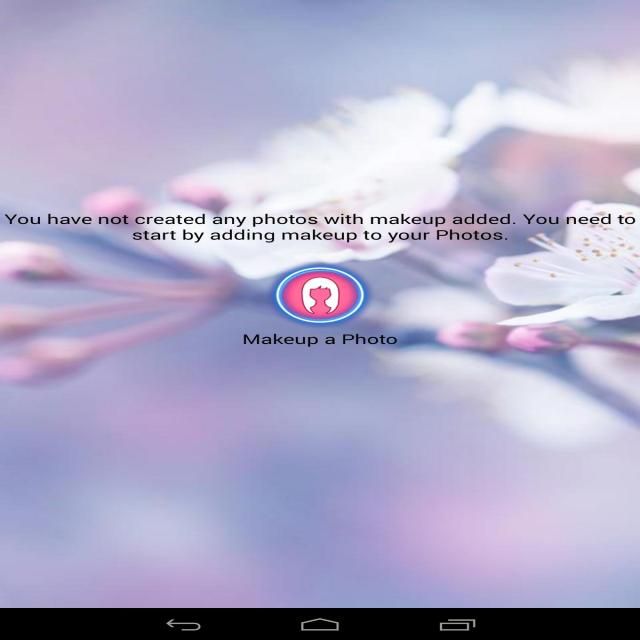heading: (238, 330, 401, 351)
image: (0, 0, 638, 609), (272, 265, 367, 323)
text: (5, 208, 640, 242)
